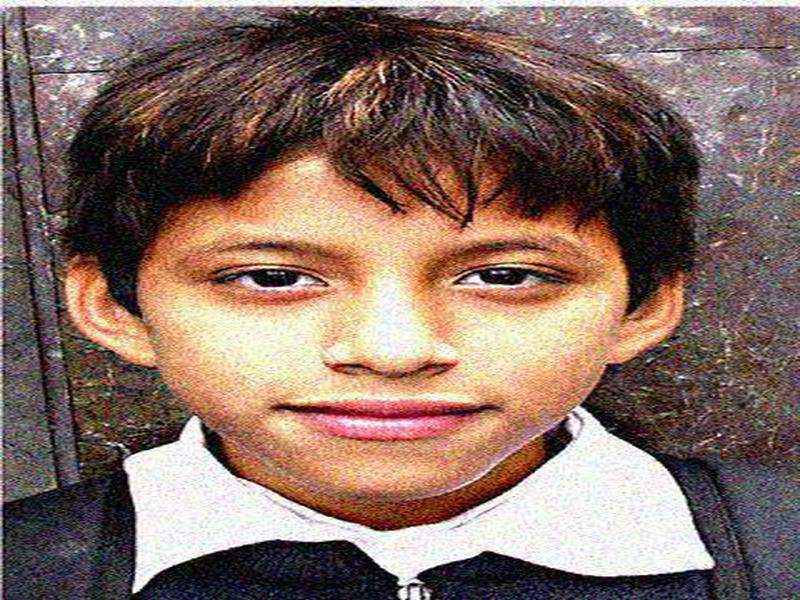without_mask: (142, 176, 625, 499)
